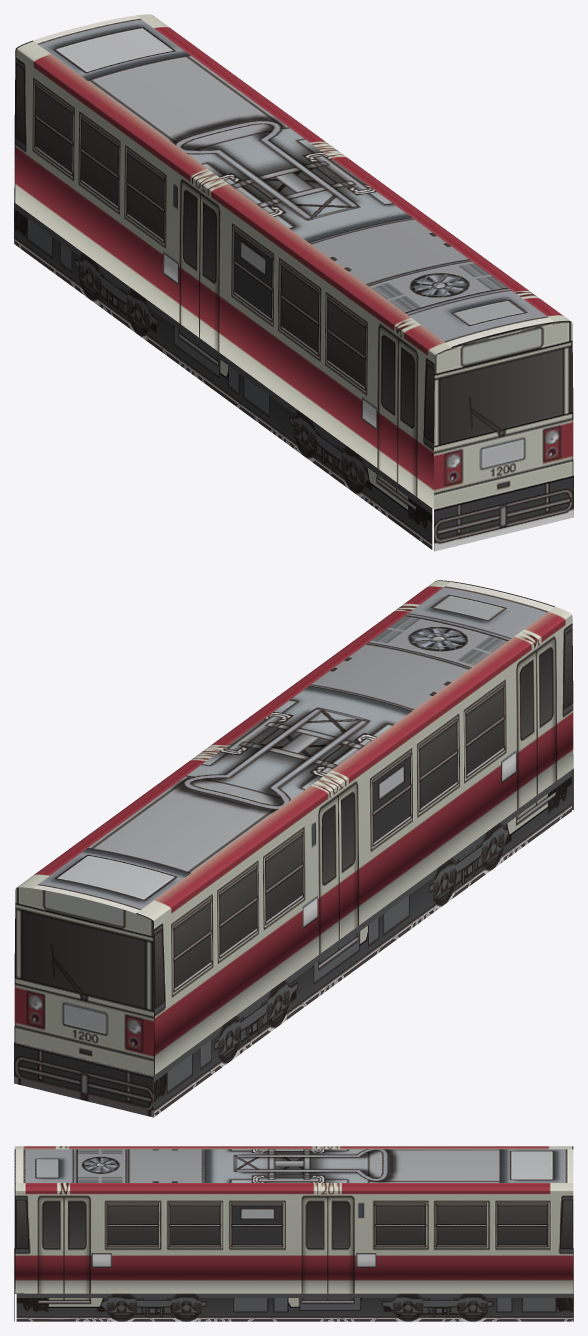
Rendered from car1.glb.
3 views of the same model, one above another, from view 1: azimuth 30°, elevation 25°; view 2: azimuth 150°, elevation 25°; view 3: azimuth 270°, elevation 25° (orthographic). The views are drawn at different scales.
Visible parts, largest first — view 1: nagasakidenki-1200-car1; view 2: nagasakidenki-1200-car1; view 3: nagasakidenki-1200-car1.
Part boxes in pixels (bbox=[...]): nagasakidenki-1200-car1: bbox=[14, 14, 573, 551]; nagasakidenki-1200-car1: bbox=[14, 580, 573, 1117]; nagasakidenki-1200-car1: bbox=[14, 1146, 573, 1321].
Size of the model in its own units: 2.25 by 3.1 by 11.73.
Materials: 9 (8 with a texture image).
